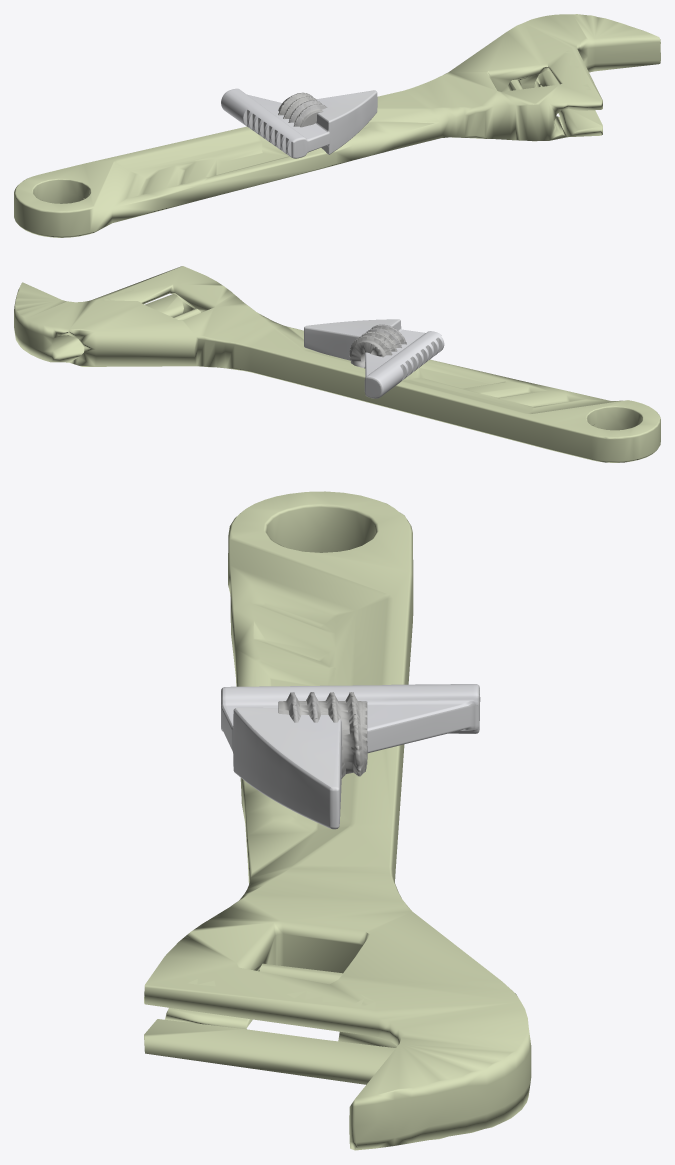
File: handtool_wrench_adjustable_a01.glb
The picture shows the model from 3 angles, top to bottom: view 1: azimuth 30°, elevation 25°; view 2: azimuth 150°, elevation 25°; view 3: azimuth 270°, elevation 25°; orthographic projection. The views are drawn at different scales.
Visible parts, largest first — view 1: prop; view 2: prop; view 3: prop.
Part boxes in pixels (x1,y1,x2,y2): prop: (14,14,660,237); prop: (14,266,660,462); prop: (144,491,531,1150).
Bounding box in the file's own units: 0.7651 × 0.0745 × 0.2051.
Materials: 3 (2 with a texture image).
